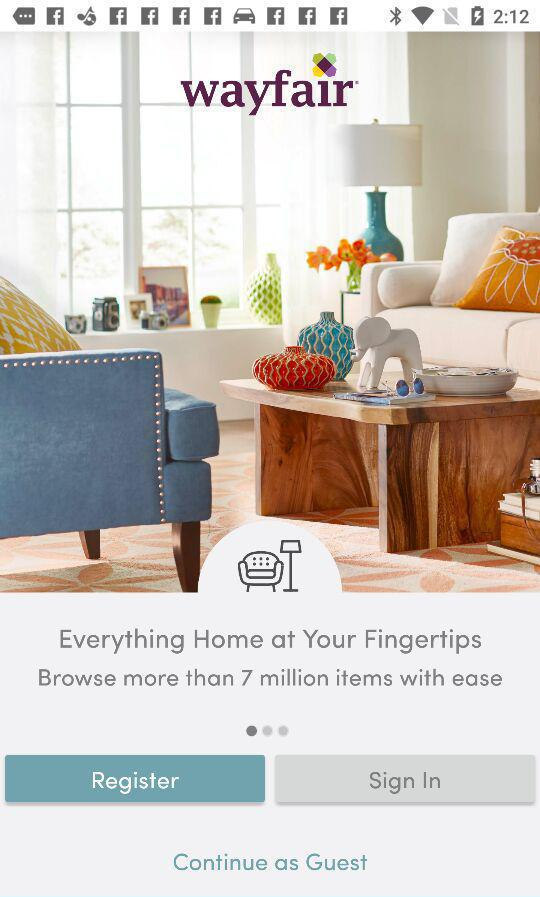Image: (1, 32, 540, 593), (181, 53, 360, 117), (198, 519, 342, 593)
PageIndicator: (245, 723, 291, 739)
Text: (60, 627, 482, 655), (39, 668, 503, 688), (173, 851, 369, 872)
TextButton: (275, 754, 536, 806), (5, 755, 266, 803)
UpperTaskBar: (1, 1, 540, 32)
